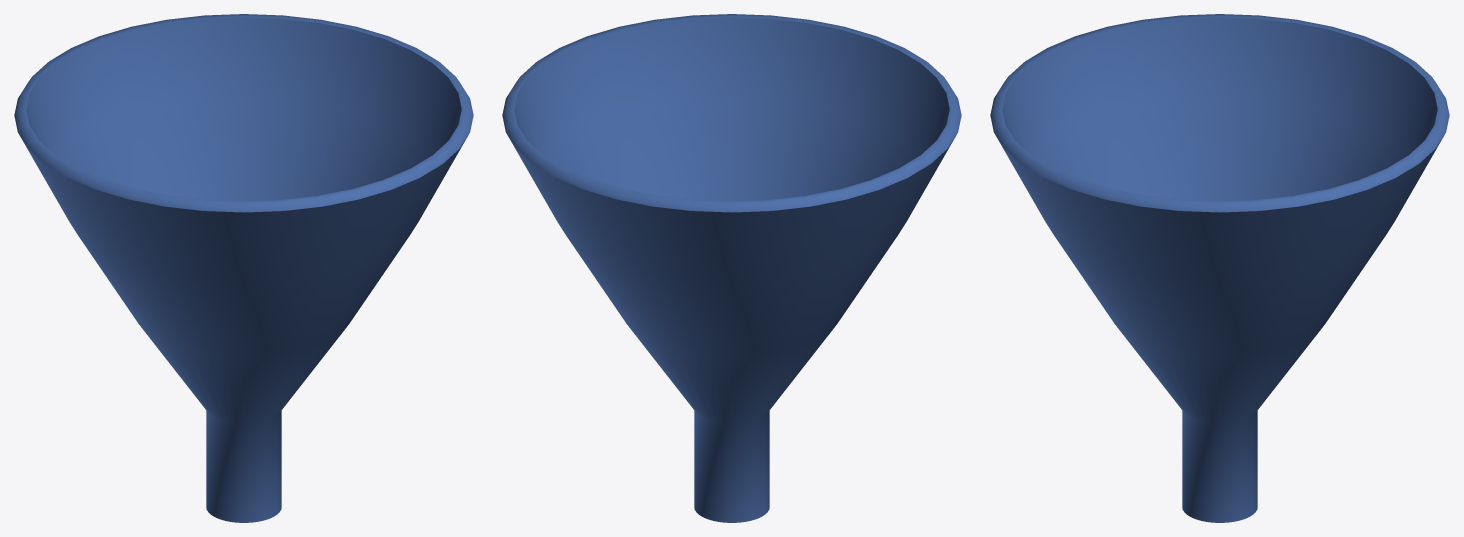
The model's file is funnelAndContents.fbx.
3 renders of one model, left to right at view 1: azimuth 30°, elevation 25°; view 2: azimuth 150°, elevation 25°; view 3: azimuth 270°, elevation 25°, orthographic.
Visible parts, largest first — view 1: funnelMLo; view 2: funnelMLo; view 3: funnelMLo.
Part boxes in pixels (bbox=[...]): funnelMLo: bbox=[14, 14, 473, 522]; funnelMLo: bbox=[502, 14, 961, 522]; funnelMLo: bbox=[990, 14, 1449, 522].
Size of the model in its own units: 5.31 by 5.08 by 5.31.
